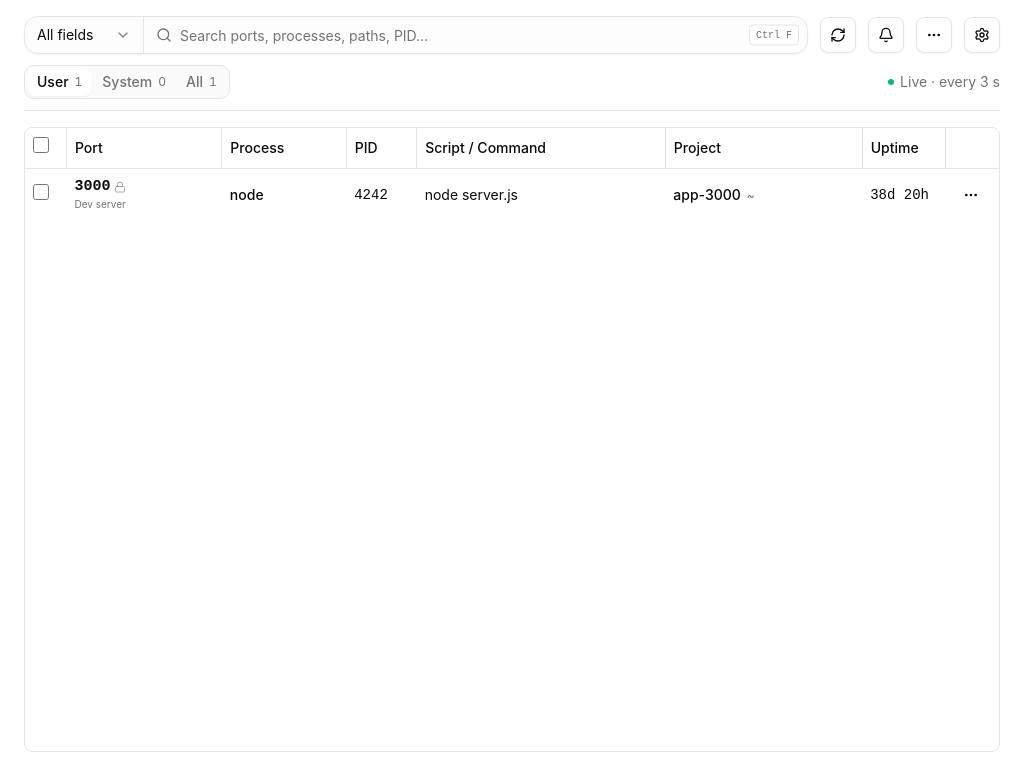
Test case: stopping › stops the process the row showed, after one confirmation
Click the button named "Actions for node". click: (971, 194)
box: [953,176,989,212]
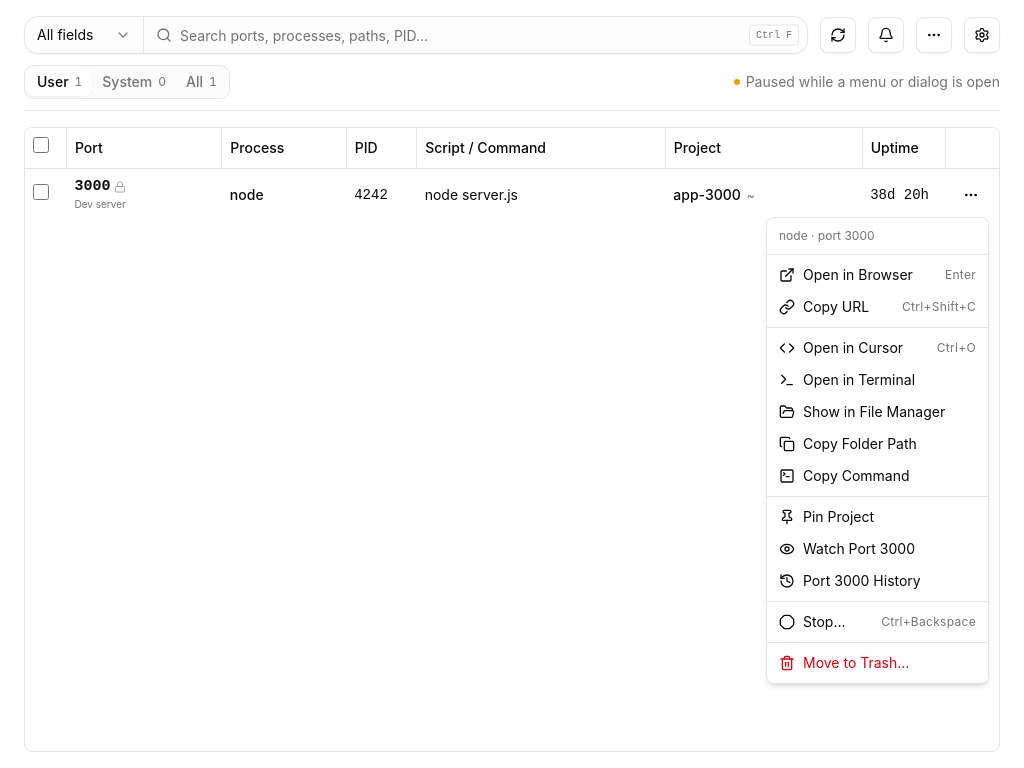
Click the menu item "Stop… Ctrl+Backspace". click: (824, 622)
box: [779,613,976,630]
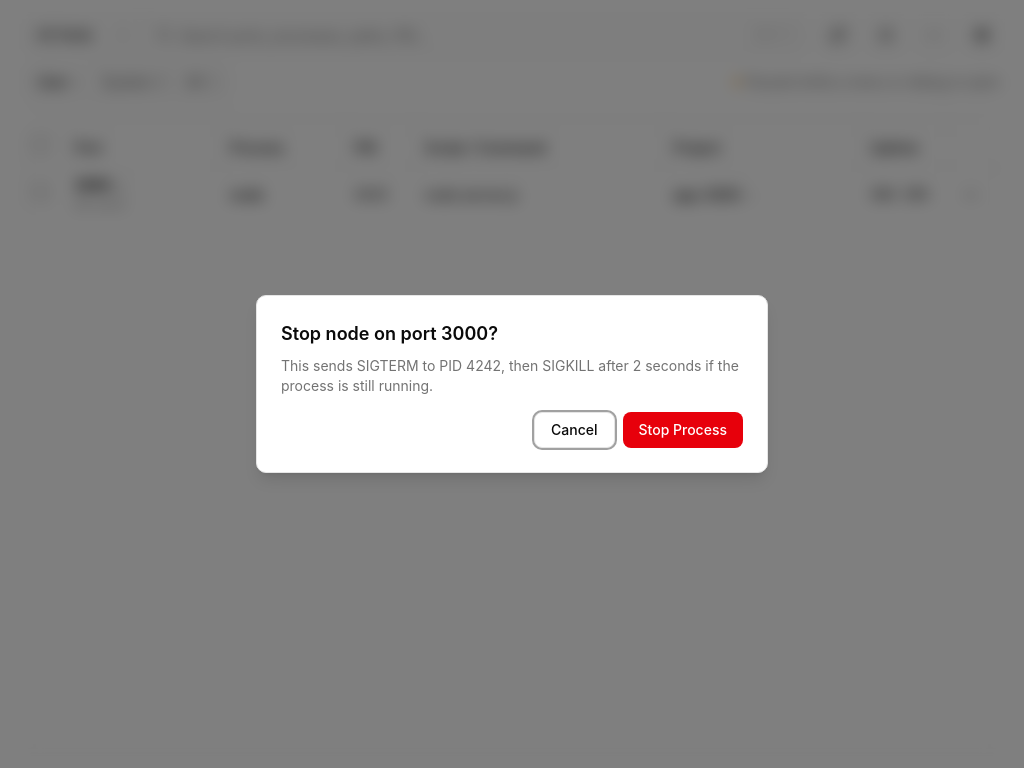
Expected: the heading "Stop node on port 3000?" is shown, [281,323,498,344]
Click the button "Stop Process". click: (683, 430)
box: [622,412,743,448]
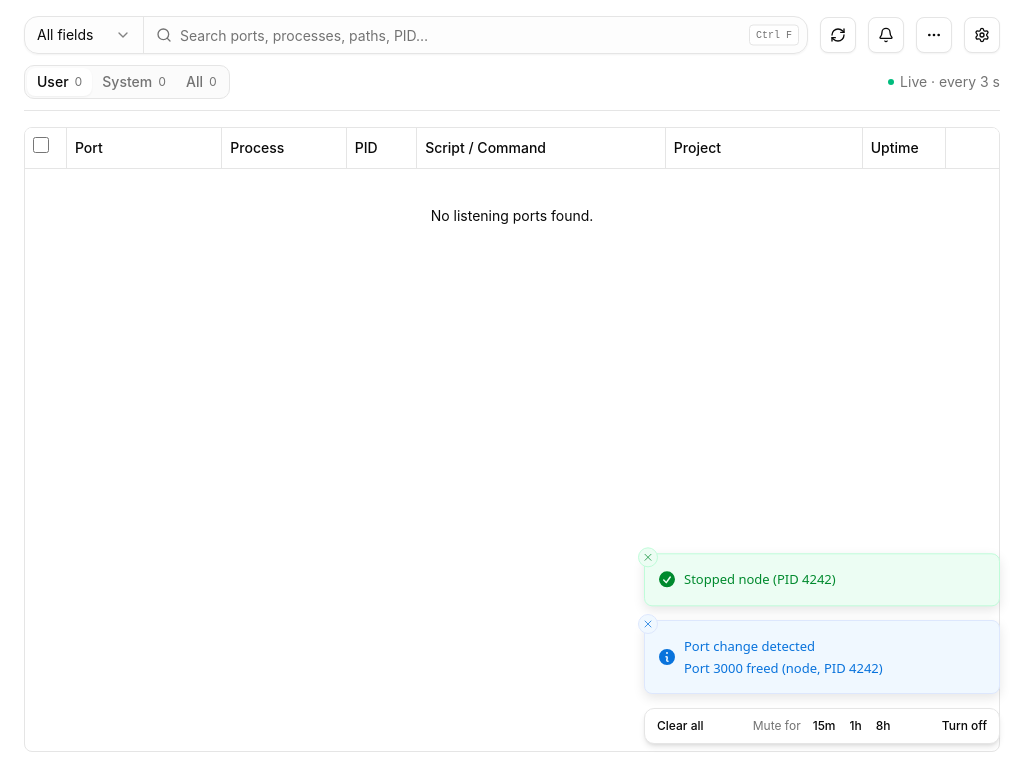
Expected: the dialog is gone
